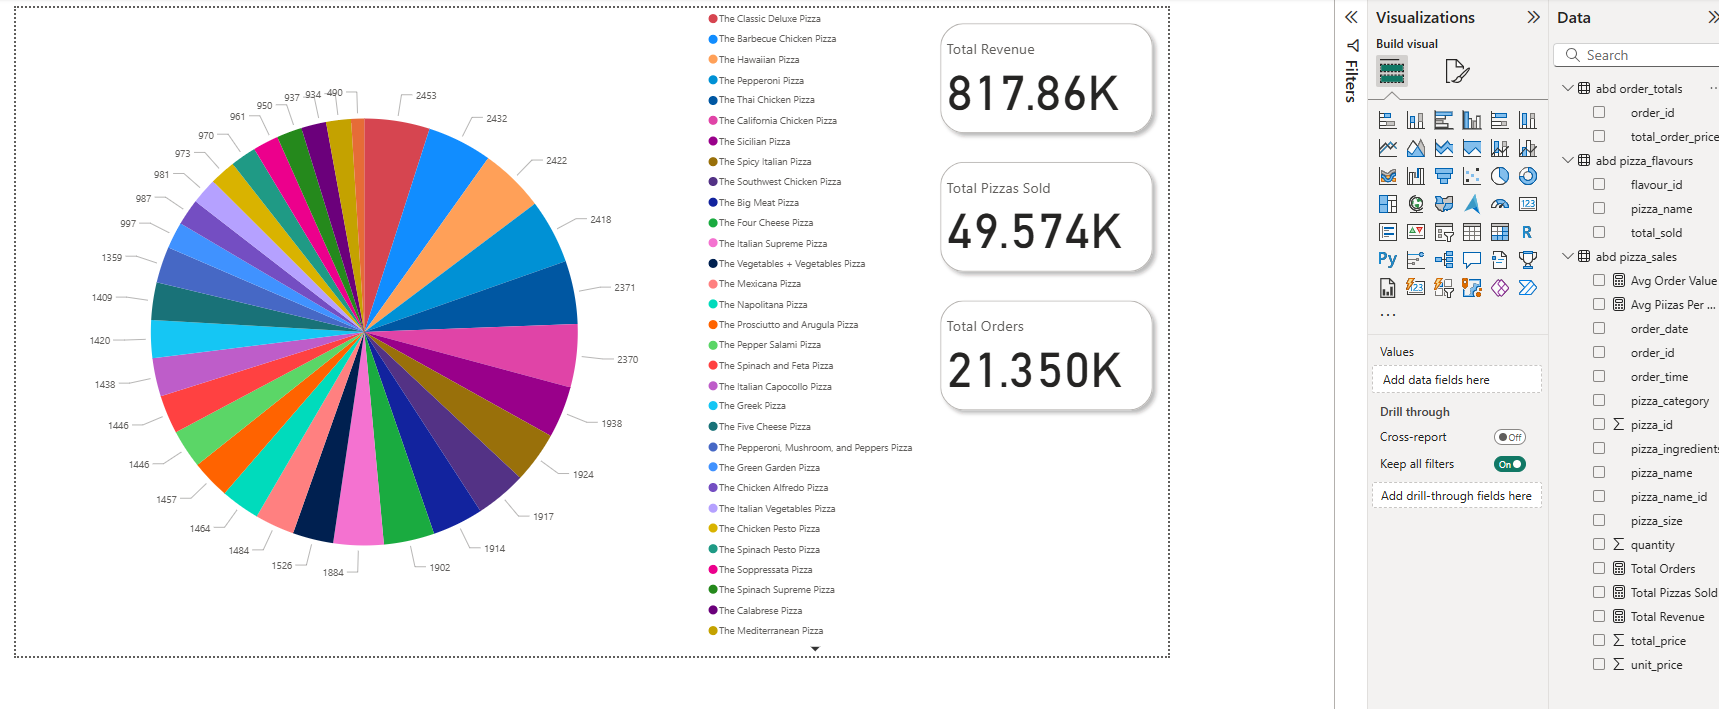

The dashboard page shown, as its layout file describes it:
{"tool":"powerbi","page":{"name":"Page 1","canvas":[1280,720],"ordinal":0},"visuals":[{"type":"cardVisual","fields":{"Data":["abd pizza_sales.Total Revenue","abd pizza_sales.Total Pizzas Sold","abd pizza_sales.Total Orders"]},"box":[1010,0,270,466.7],"z":0},{"type":"pieChart","fields":{"Category":["abd pizza_flavours.pizza_name"],"Y":["Max(abd pizza_flavours.total_sold)"]},"box":[0,0,1010,720],"z":1000}]}

Visuals, with their boxes on the page's 1280x720 design canvas (x1, y1, x2, y2). These are canvas units, not pixel positions in the 1719x709 screenshot, which may show the page scaled, cropped or inside an application window:
cardVisual - abd pizza_sales.Total Revenue x abd pizza_sales.Total Pizzas Sold: 1010:0:1280:467
pieChart - abd pizza_flavours.pizza_name x Max(abd pizza_flavours.total_sold): 0:0:1010:720
